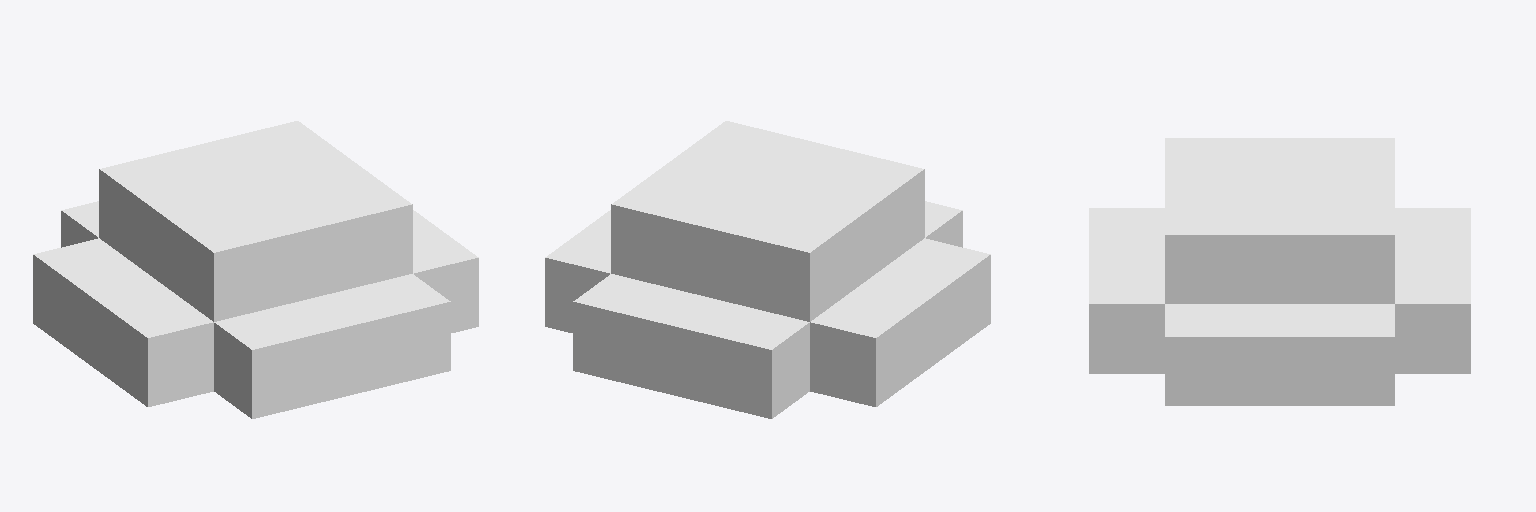
File: farm-34-cauliflower_growth3.obj
The picture shows the model from 3 angles: view 1: azimuth 30°, elevation 25°; view 2: azimuth 150°, elevation 25°; view 3: azimuth 270°, elevation 25°; orthographic projection.
Parts seen in each view (by area): view 1: cauliflower_growth3; view 2: cauliflower_growth3; view 3: cauliflower_growth3.
Part boxes in pixels (x1,y1,x2,y2): cauliflower_growth3: (33, 121, 478, 418); cauliflower_growth3: (545, 121, 990, 418); cauliflower_growth3: (1089, 138, 1470, 405).
Size of the model in its own units: 0.5 by 0.2 by 0.5.